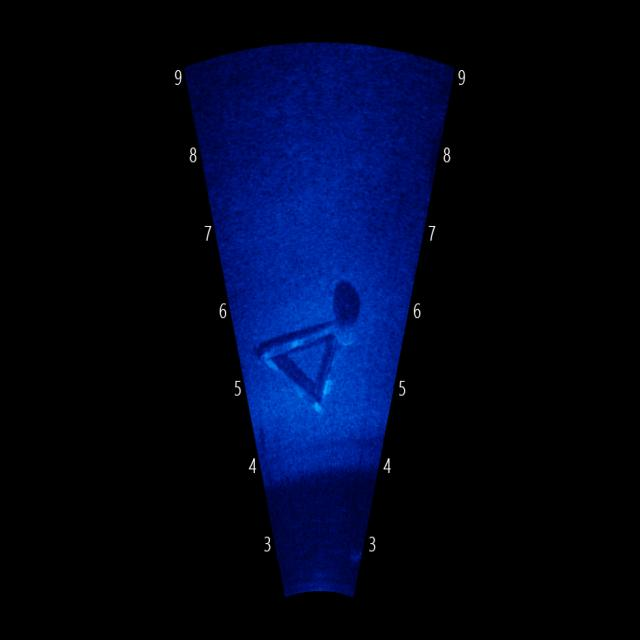triangle: (253, 308, 360, 427)
